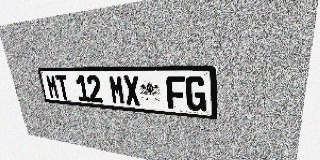1: (74, 75, 91, 102)
2: (86, 75, 103, 103)
F: (166, 76, 186, 110)
G: (185, 76, 206, 112)
M: (108, 75, 126, 105), (45, 75, 60, 99)
T: (55, 75, 71, 100)
X: (123, 75, 141, 106)
